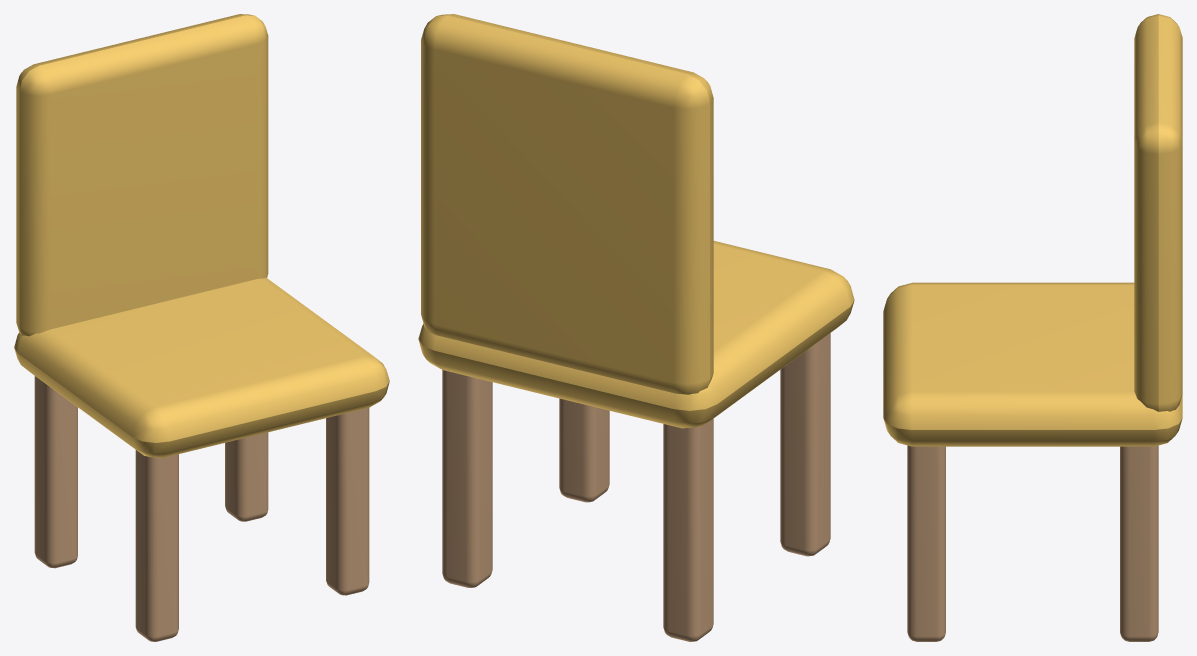
Rendered from word-chair.glb.
3 renders of one model, left to right at view 1: azimuth 30°, elevation 25°; view 2: azimuth 150°, elevation 25°; view 3: azimuth 270°, elevation 25°, orthographic. The views are drawn at different scales.
Parts seen in each view (by area): view 1: chair back, chair seat, chair leg, chair leg.002, chair leg.001, chair leg.003; view 2: chair back, chair seat, chair leg.001, chair leg.003, chair leg, chair leg.002; view 3: chair seat, chair back, chair leg.002, chair leg.003.
Part boxes in pixels (x1=…): chair back: x1=16, y1=14, x2=268, y2=336; chair seat: x1=14, y1=277, x2=389, y2=457; chair leg: x1=135, y1=450, x2=178, y2=641; chair leg.002: x1=326, y1=408, x2=369, y2=595; chair leg.001: x1=34, y1=376, x2=77, y2=568; chair leg.003: x1=225, y1=432, x2=268, y2=521; chair back: x1=421, y1=14, x2=713, y2=394; chair seat: x1=418, y1=241, x2=854, y2=428; chair leg.001: x1=663, y1=419, x2=713, y2=641; chair leg.003: x1=442, y1=370, x2=492, y2=587; chair leg: x1=780, y1=333, x2=830, y2=556; chair leg.002: x1=559, y1=398, x2=609, y2=502; chair seat: x1=883, y1=282, x2=1182, y2=446; chair back: x1=1134, y1=14, x2=1182, y2=411; chair leg.002: x1=907, y1=445, x2=945, y2=641; chair leg.003: x1=1120, y1=445, x2=1158, y2=641.
Bounding box in the file's own units: 0.64 × 1.19 × 0.62.
